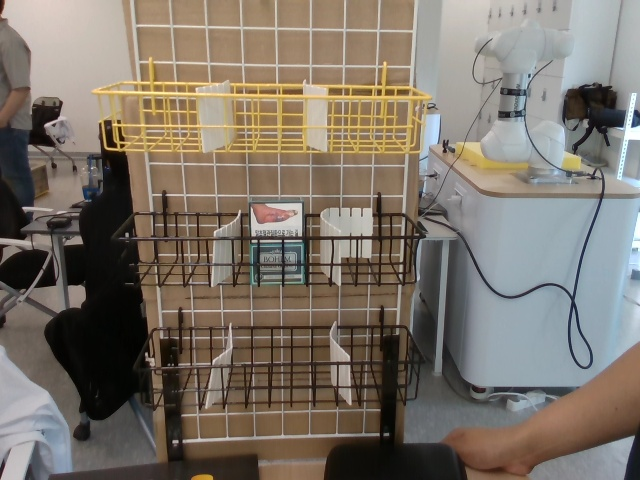bohem: (245, 195, 310, 285)
